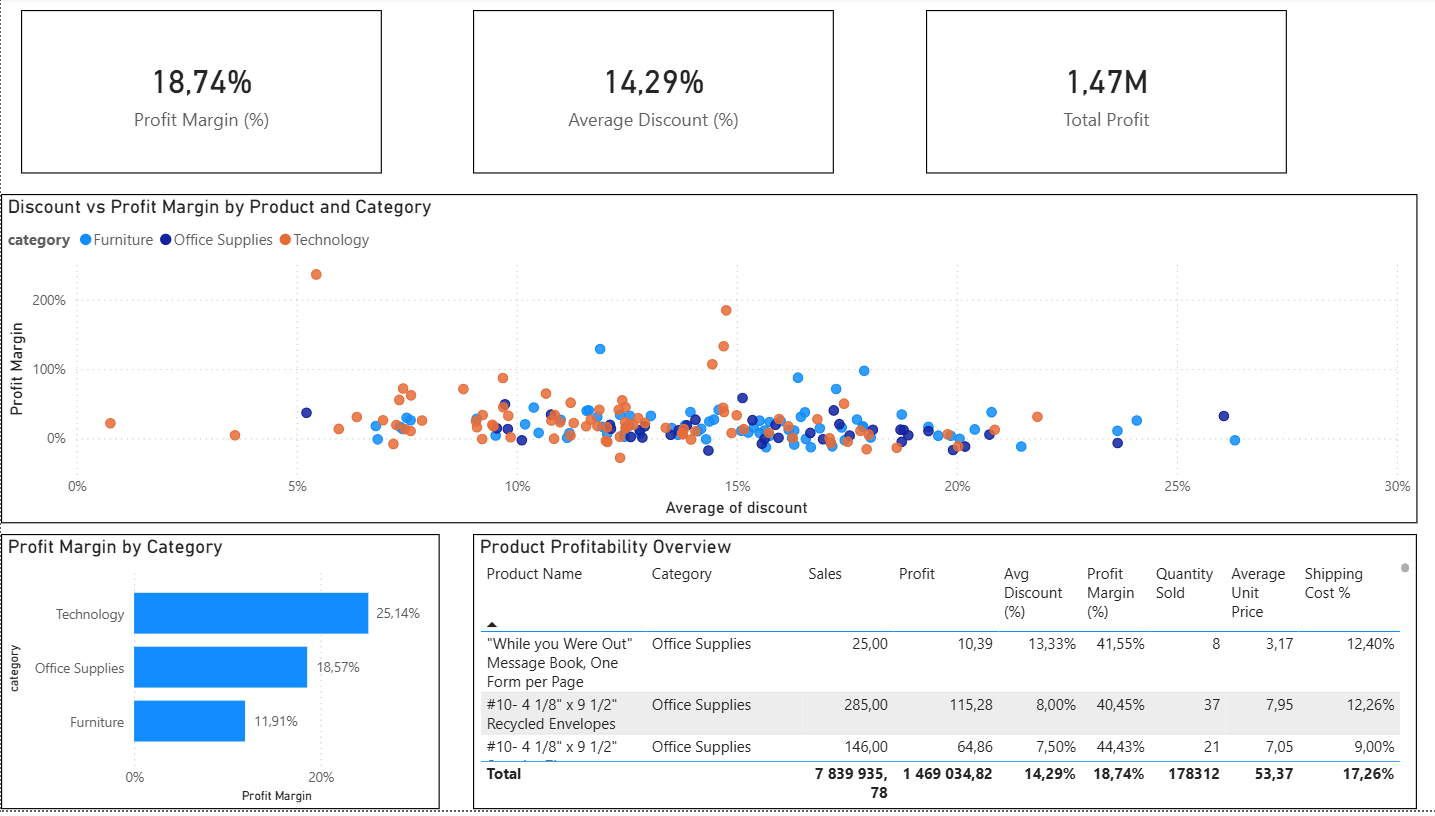

The dashboard page shown, as its layout file describes it:
{"tool":"powerbi","page":{"name":"Profitability Analysis","canvas":[1280,720],"ordinal":8},"visuals":[{"type":"scatterChart","title":"Discount vs Profit Margin by Product and Category","fields":{"X":["Avg(SuperStoreOrders.discount)"],"Y":["SuperStoreOrders.Profit Margin"],"Category":["SuperStoreOrders.product_name"],"Series":["SuperStoreOrders.category"]},"box":[0,174.1,1255.7,291.8],"z":0},{"type":"card","fields":{"Values":["SuperStoreOrders.Profit Margin"]},"box":[17.5,10.7,320,144.9],"z":1000},{"type":"card","fields":{"Values":["SuperStoreOrders.Avg Discount"]},"box":[418.2,10.7,320,144.9],"z":2000},{"type":"card","fields":{"Values":["SuperStoreOrders.Total Profit"]},"box":[819.9,10.7,320,144.9],"z":3000},{"type":"clusteredBarChart","title":"Profit Margin by Category","fields":{"Category":["SuperStoreOrders.category"],"Y":["SuperStoreOrders.Profit Margin"]},"box":[0,475.6,389.1,244.1],"z":4000},{"type":"tableEx","title":"Product Profitability Overview","fields":{"Values":["SuperStoreOrders.product_name","SuperStoreOrders.category","Sum(SuperStoreOrders.sales)","Sum(SuperStoreOrders.profit)","Avg(SuperStoreOrders.discount)","SuperStoreOrders.Profit Margin","Sum(SuperStoreOrders.quantity)","Avg(SuperStoreOrders.UnitPrice)","SuperStoreOrders.ShippingCostPercent"]},"box":[418.2,475.6,837.4,244.1],"z":5000}]}

Visuals, with their boxes in screenshot pixels (x1, y1, x2, y2), scaled from the page's 1280x720 canvas onto the 1435x816 screenshot:
"Discount vs Profit Margin by Product and Category" scatterChart: region(0, 197, 1408, 528)
card - SuperStoreOrders.Profit Margin: region(20, 12, 378, 176)
card - SuperStoreOrders.Avg Discount: region(469, 12, 828, 176)
card - SuperStoreOrders.Total Profit: region(919, 12, 1278, 176)
"Profit Margin by Category" clusteredBarChart: region(0, 539, 436, 815)
"Product Profitability Overview" tableEx: region(469, 539, 1408, 815)
